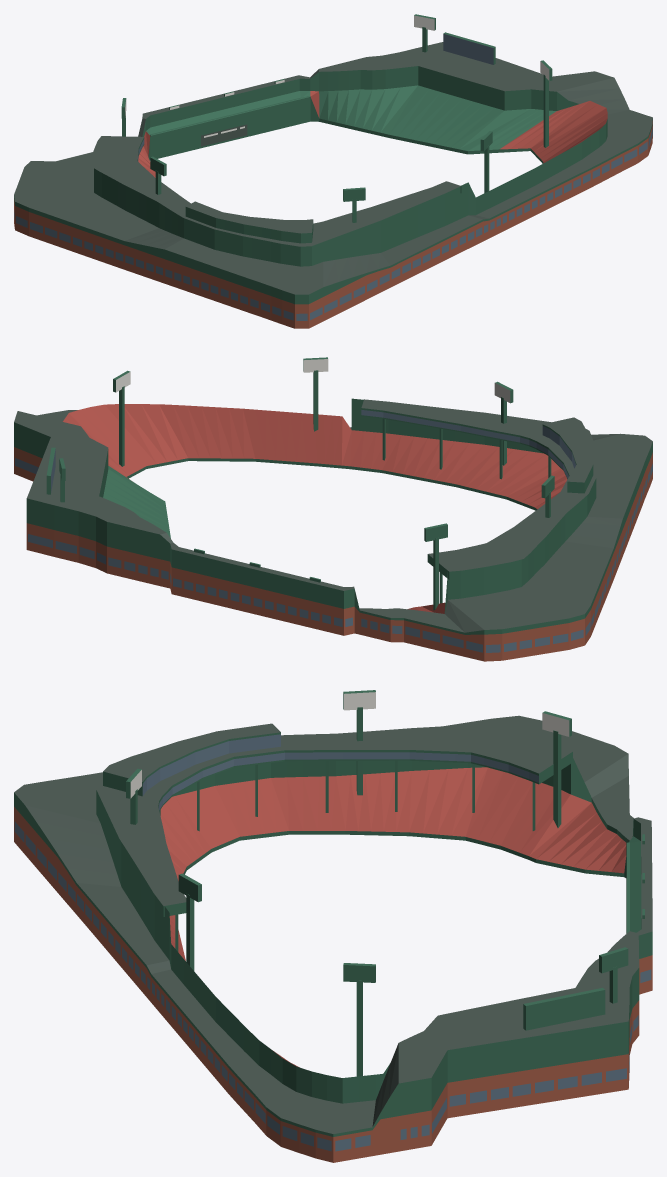
File: bos-fenway-park.glb
3 renders of one model, top to bottom at view 1: azimuth 30°, elevation 25°; view 2: azimuth 150°, elevation 25°; view 3: azimuth 270°, elevation 25°, orthographic. The views are drawn at different scales.
Visible parts, largest first — view 1: Fenway Park; view 2: Fenway Park; view 3: Fenway Park.
Part boxes in pixels (x1,y1,x2,y2): Fenway Park: (14,14,652,328); Fenway Park: (14,357,652,661); Fenway Park: (14,690,652,1162).
Size of the model in its own units: 272 by 41 by 181.
